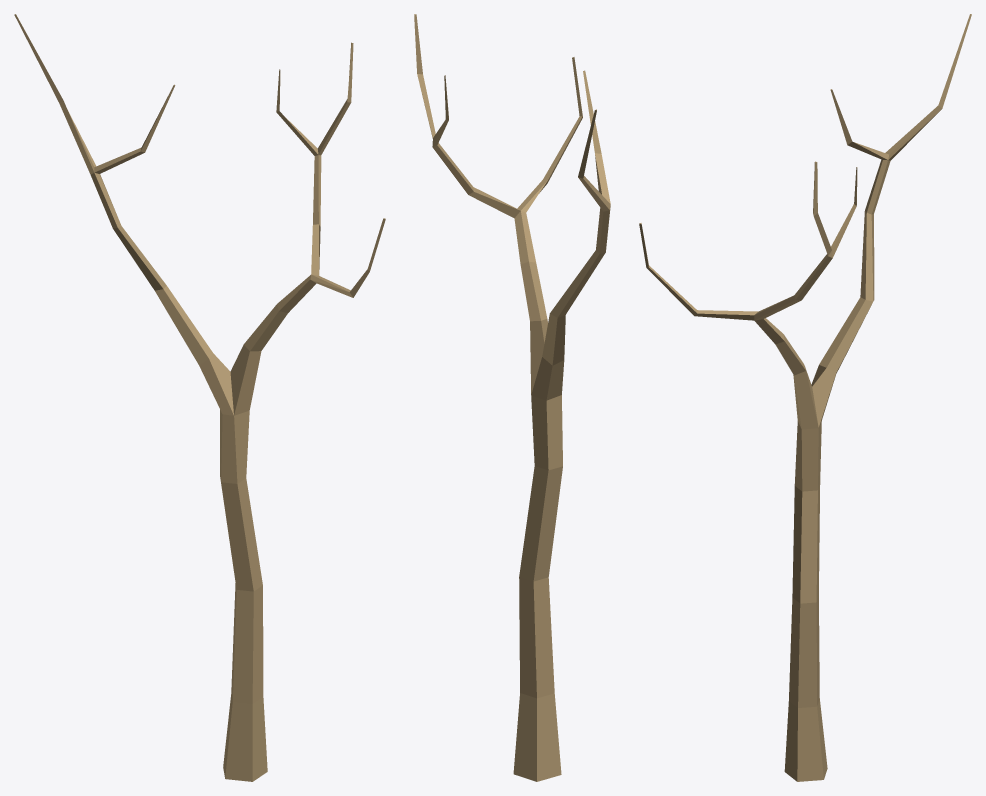
File: Acacia_Tree_NoLeaves_s_02.fbx
3 views of the same model, side by side, from view 1: azimuth 30°, elevation 25°; view 2: azimuth 150°, elevation 25°; view 3: azimuth 270°, elevation 25° (orthographic). The views are drawn at different scales.
Parts seen in each view (by area): view 1: Acacia_Tree_NoLeaves_s_02; view 2: Acacia_Tree_NoLeaves_s_02; view 3: Acacia_Tree_NoLeaves_s_02.
Part boxes in pixels (<box>): Acacia_Tree_NoLeaves_s_02: <box>14,14,385,781</box>; Acacia_Tree_NoLeaves_s_02: <box>414,14,610,781</box>; Acacia_Tree_NoLeaves_s_02: <box>639,14,971,781</box>.
Bounding box in the file's own units: 241 × 655 × 285.
